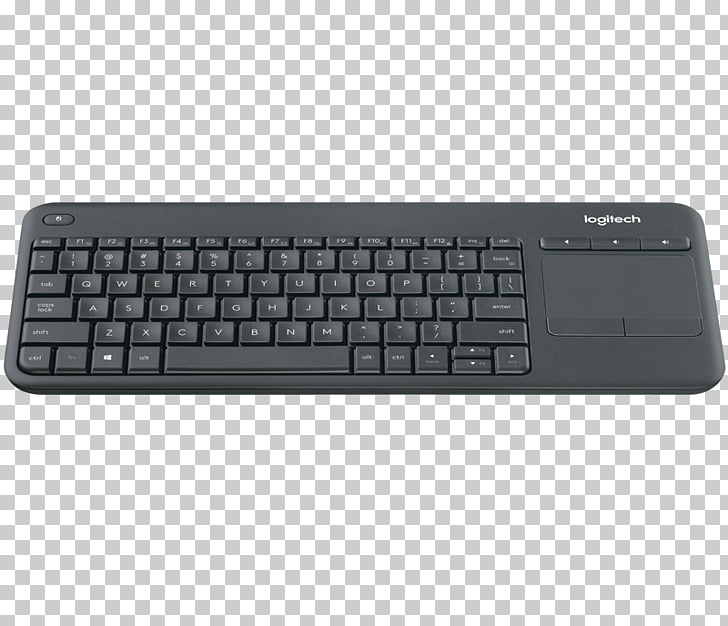logitech-keyboard-k400: (5, 199, 717, 407)
